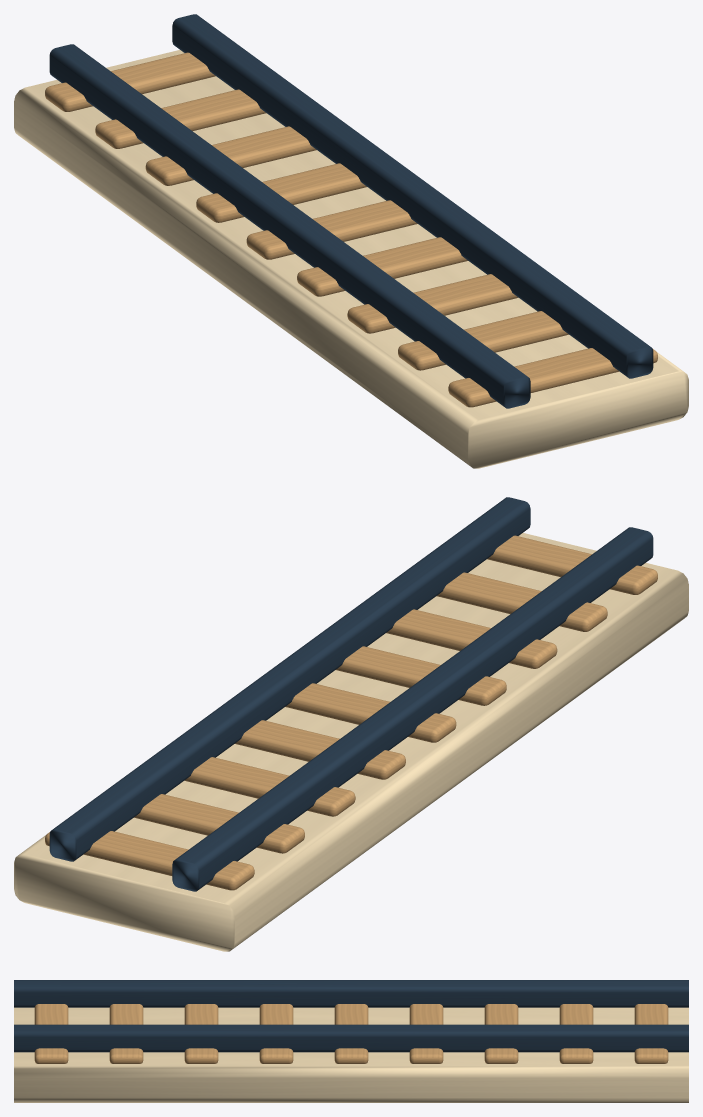
The model's file is original-track-straight.glb.
3 renders of one model, top to bottom at view 1: azimuth 30°, elevation 25°; view 2: azimuth 150°, elevation 25°; view 3: azimuth 270°, elevation 25°, orthographic. The views are drawn at different scales.
Visible parts, largest first — view 1: original-track-straight; view 2: original-track-straight; view 3: original-track-straight.
Boxes of the visible parts, bbox=[...] form: original-track-straight: bbox=[14, 14, 688, 468]; original-track-straight: bbox=[14, 497, 688, 951]; original-track-straight: bbox=[14, 980, 688, 1102].
Bounding box in the file's own units: 0.9 × 0.315 × 3.2.
Materials: 1 (1 with a texture image).
